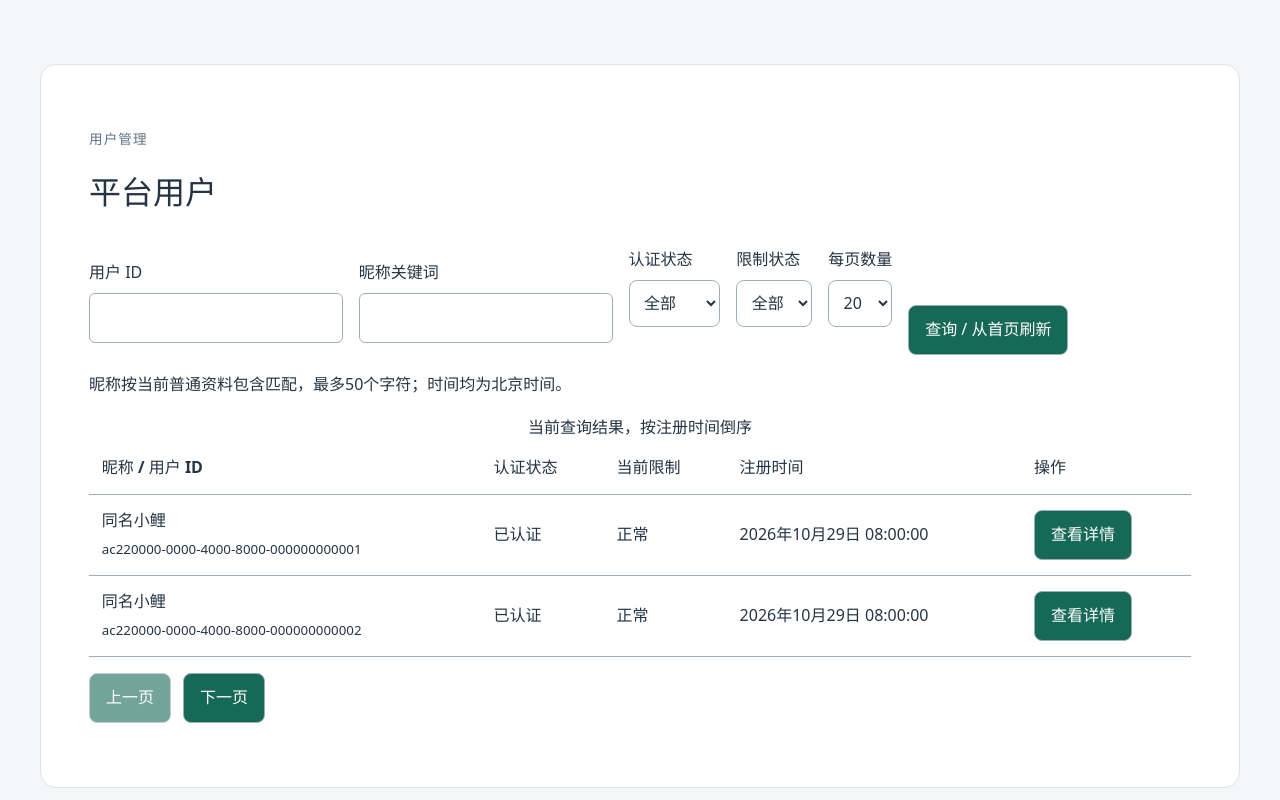
Test: UM-A02–A06 平台用户页面 › 晚到列表不能覆盖新关键词结果
Submit the form, box [89,234,1191,355]
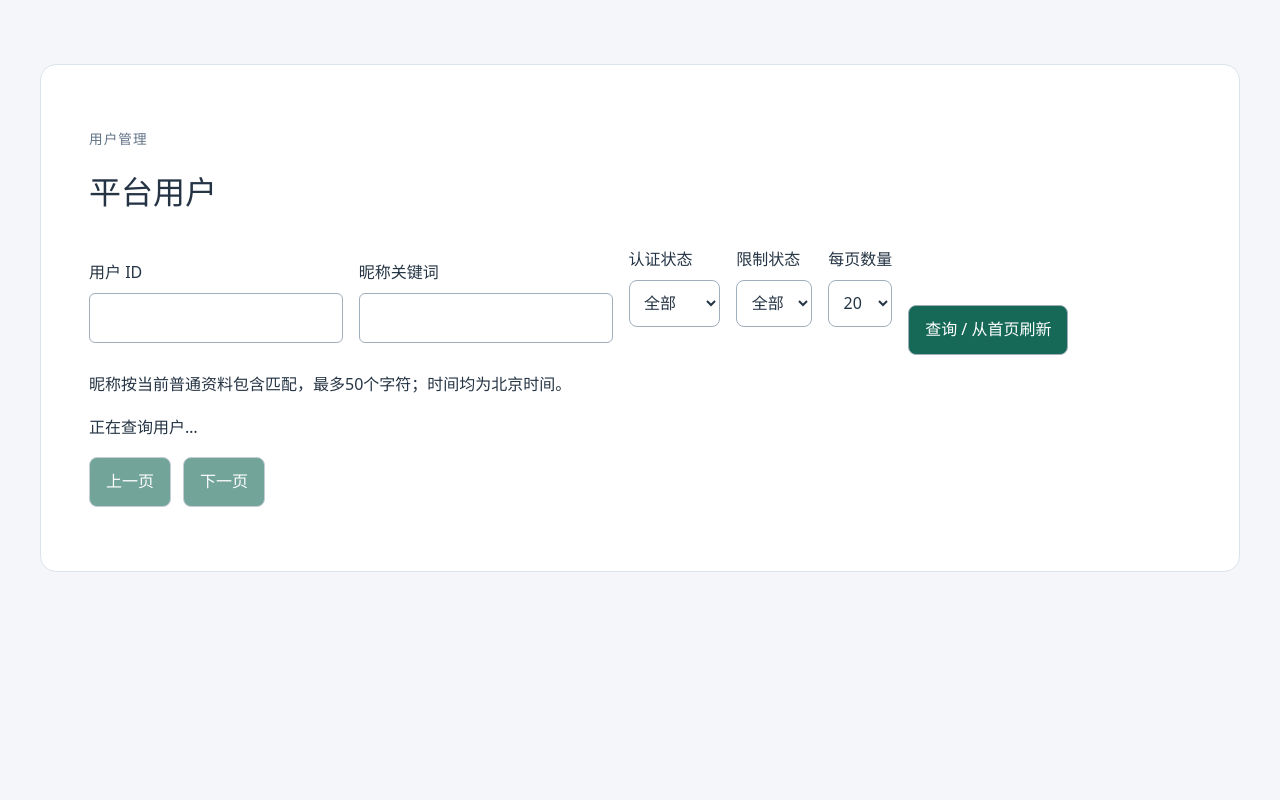
Type "新词" into the field labelled "昵称关键词" at (486, 318), box [359,293,613,343]
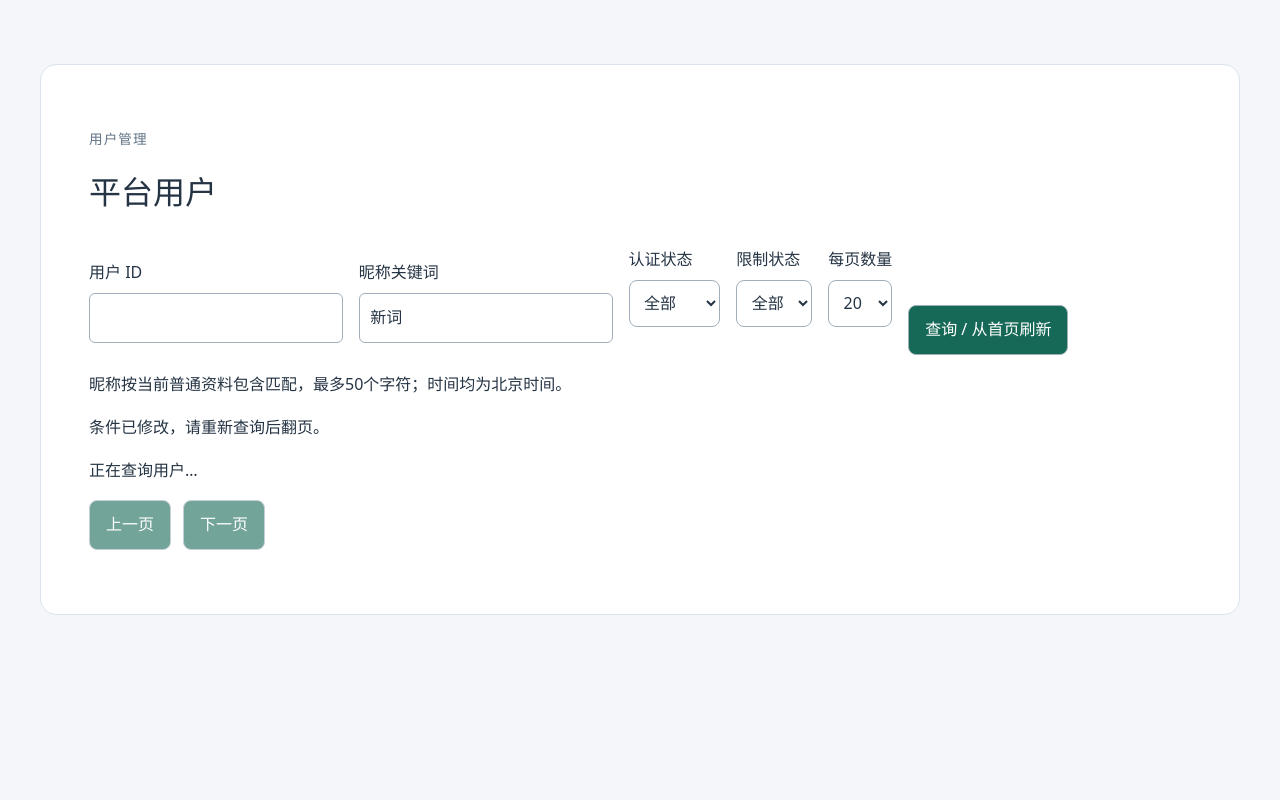
Submit the form, box [89,234,1191,355]
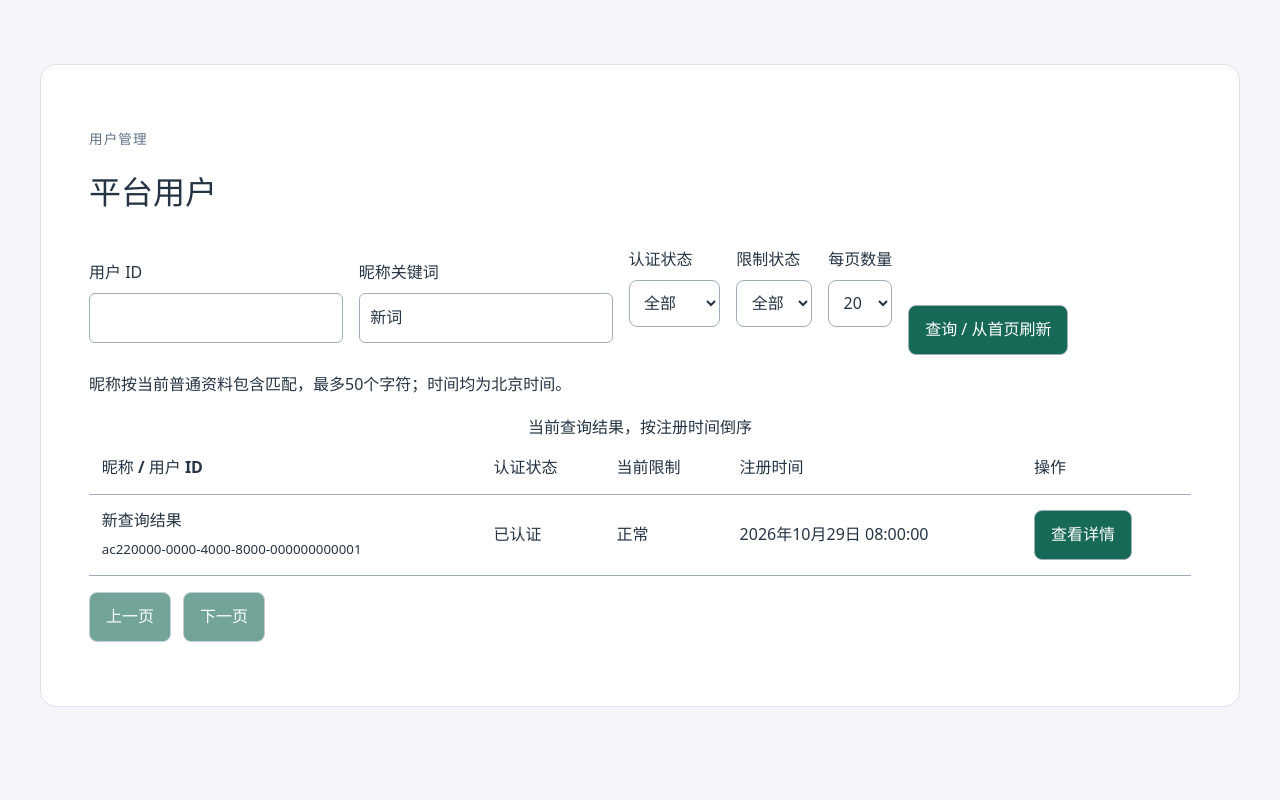
Expected: the text "新查询结果" is shown, [102,510,182,532]
